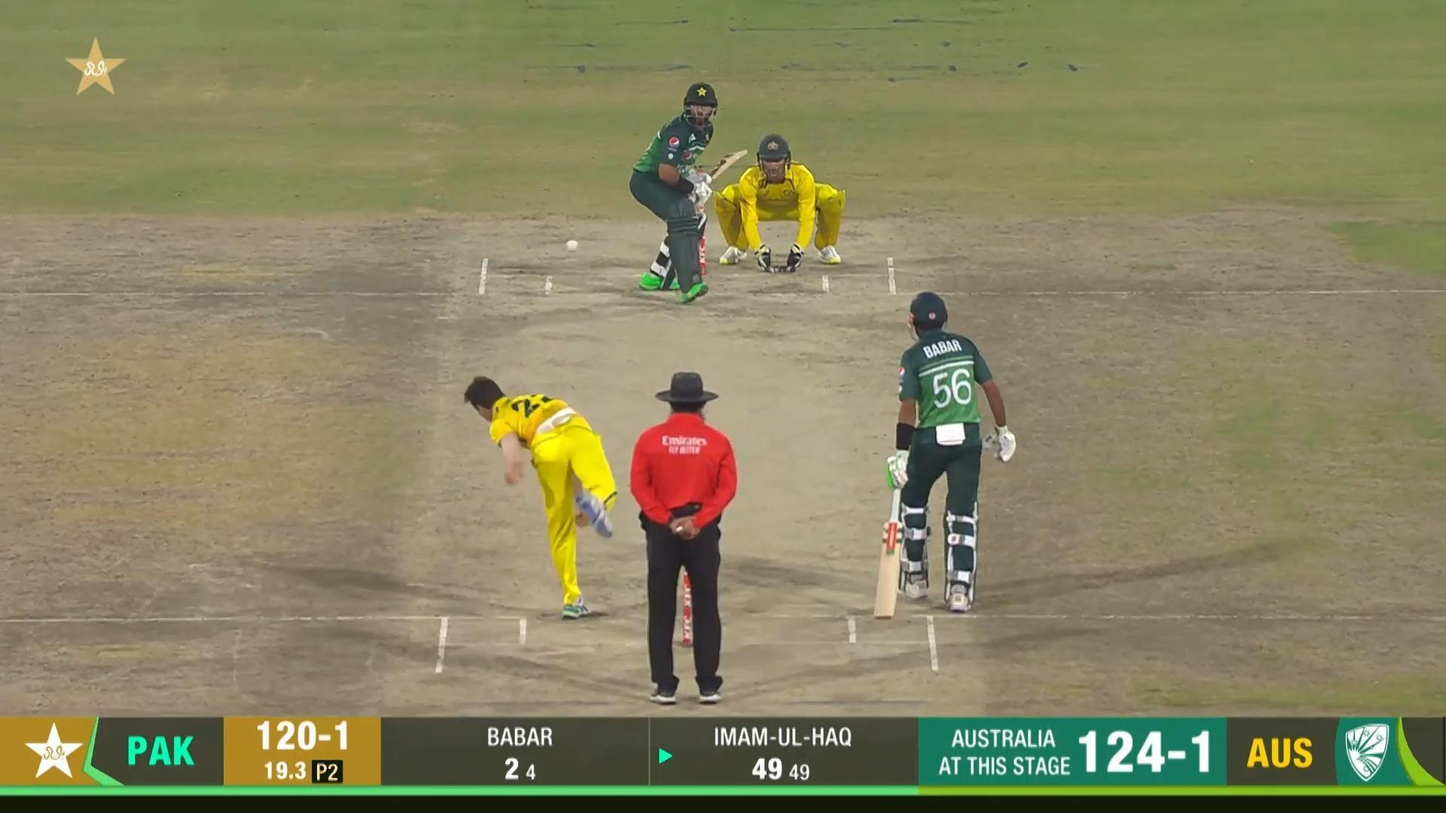BM 1: (629, 82, 748, 304)
BO: (464, 373, 621, 620)
